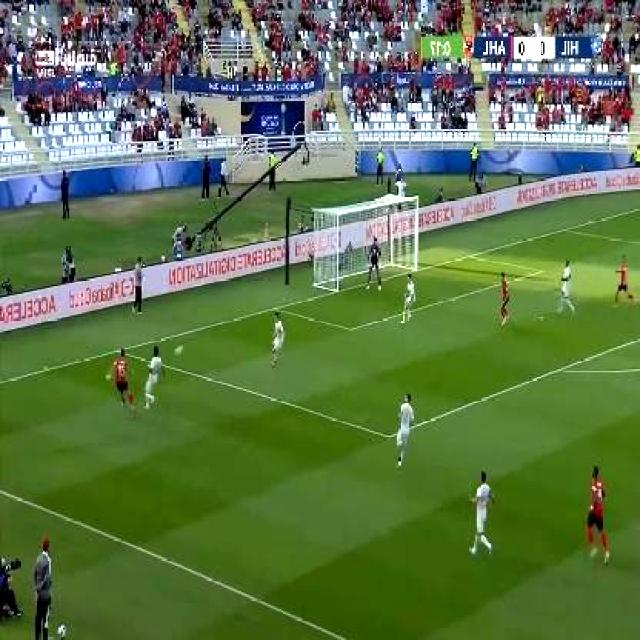bigarea_bottom_inner: (378, 422, 400, 448)
bigarea_top_outter: (558, 220, 576, 237)
bottom_arc_area_intersection: (549, 357, 571, 381)
smallarea_bottom_inner: (343, 317, 360, 338)
smallarea_bottom_outter: (268, 297, 286, 318)
smallarea_top_inner: (531, 262, 551, 280)
smallarea_top_outter: (464, 245, 482, 263)
